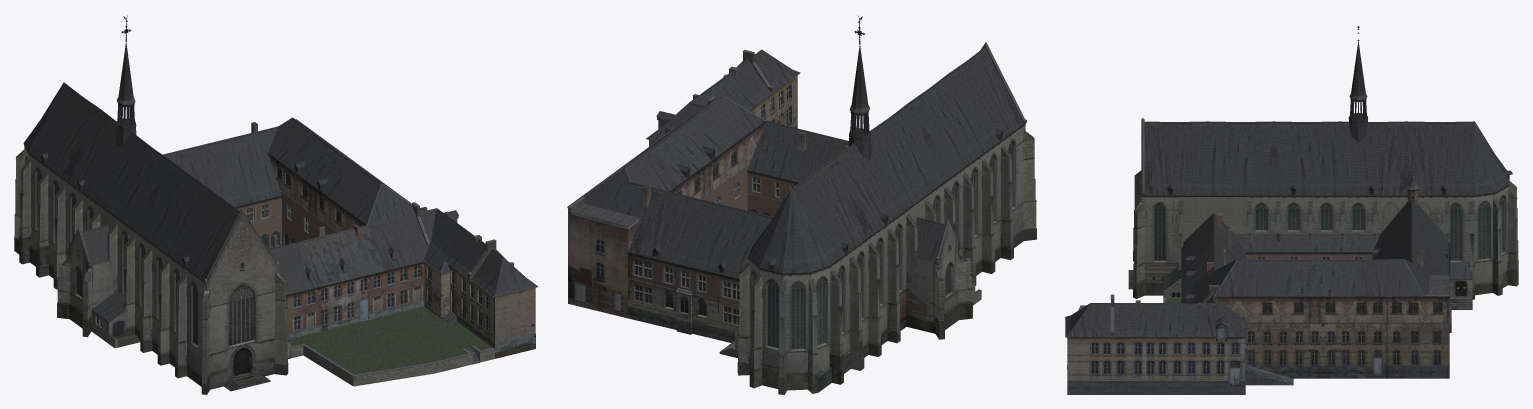
Rendered from eglise_couvent_recollets.glb.
3 views of the same model, side by side, from view 1: azimuth 30°, elevation 25°; view 2: azimuth 150°, elevation 25°; view 3: azimuth 270°, elevation 25° (orthographic). The views are drawn at different scales.
Visible parts, largest first — view 1: eglise_couvent_recollets; view 2: eglise_couvent_recollets; view 3: eglise_couvent_recollets.
Boxes of the visible parts, bbox=[...] form: eglise_couvent_recollets: bbox=[14, 15, 538, 394]; eglise_couvent_recollets: bbox=[567, 16, 1036, 394]; eglise_couvent_recollets: bbox=[1065, 26, 1518, 394].
Bounding box in the file's own units: 55.88 × 45.55 × 71.17.
Materials: 3 (3 with a texture image).
